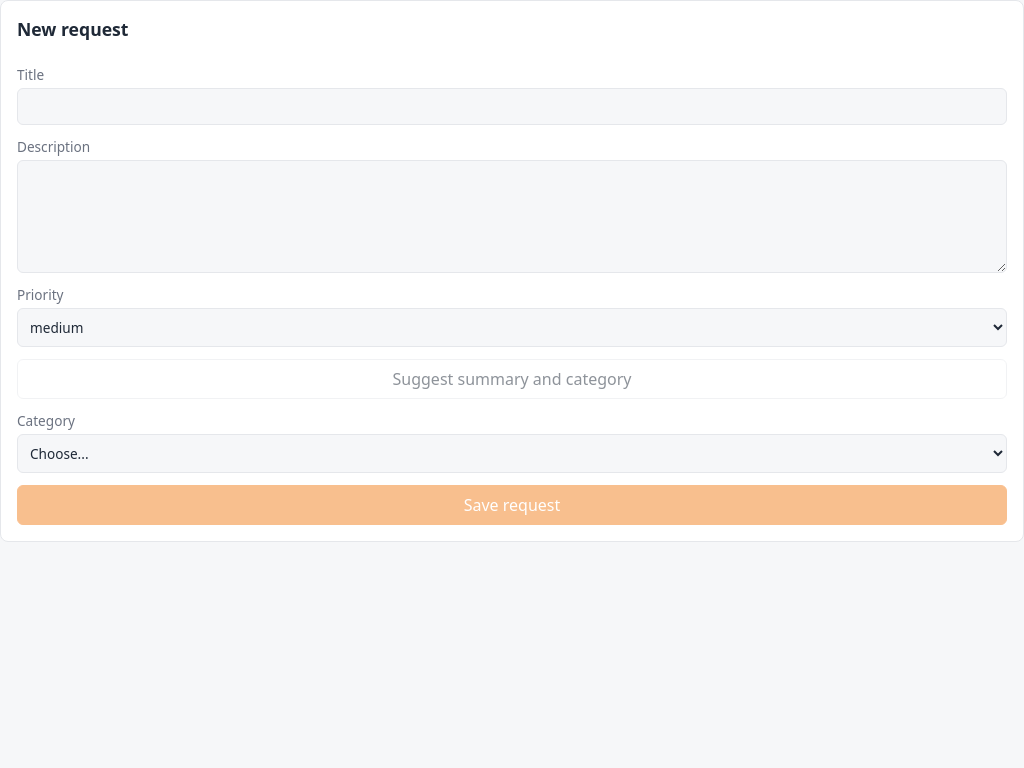
it: NewRequestForm › asks for a manual category when the AI is unavailable
This screenshot has width=1024, height=768.
Step 1. Type "VPN broken" into the field labelled "Title" → (512, 106), box [17, 88, 1007, 125]
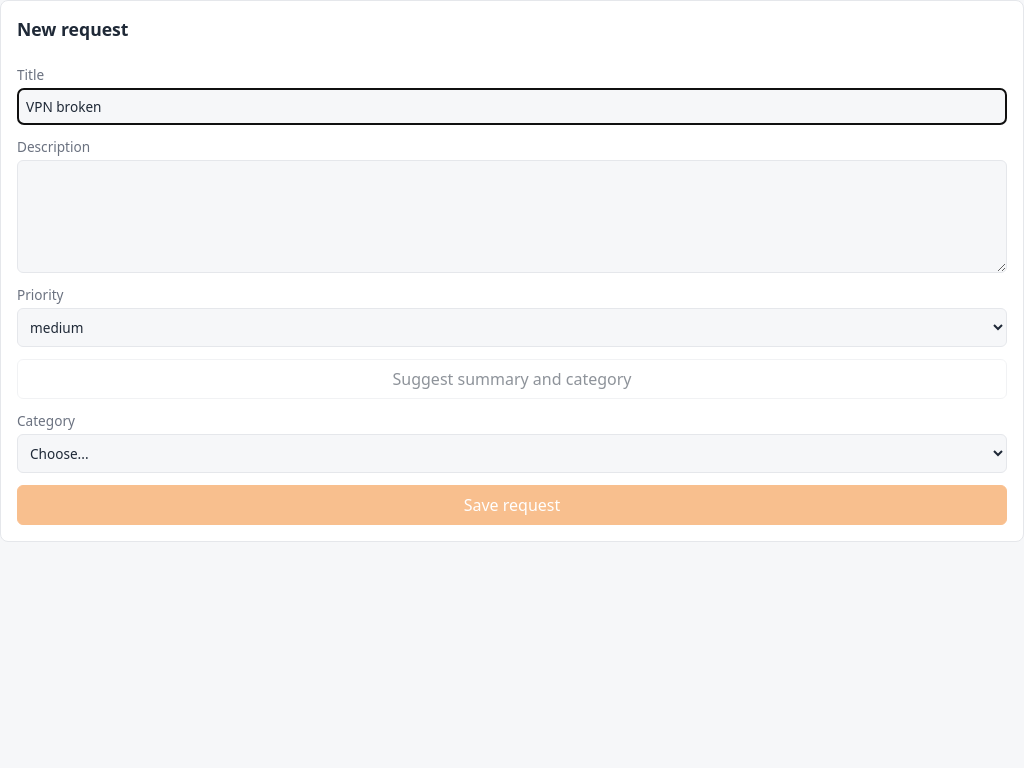
Step 2. Type "Certificate expired this morning." into the text box labelled "Description" → (512, 216), box [17, 160, 1007, 273]
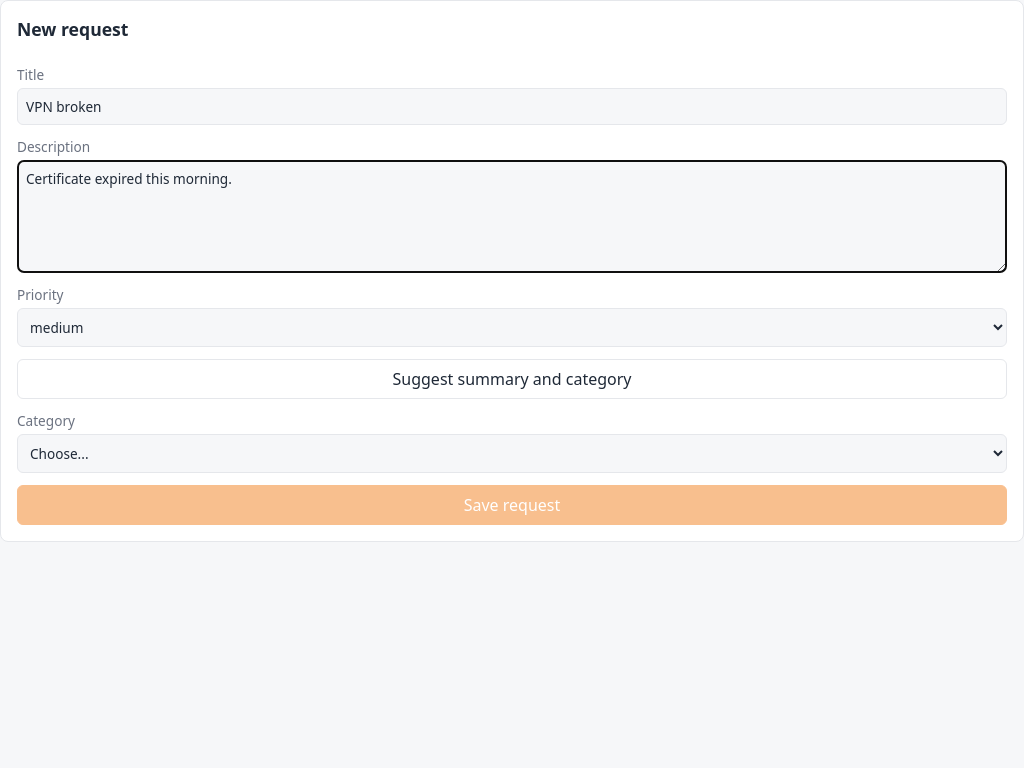
Step 3. Click the button "Suggest summary and category" → (512, 379), box [17, 359, 1007, 399]
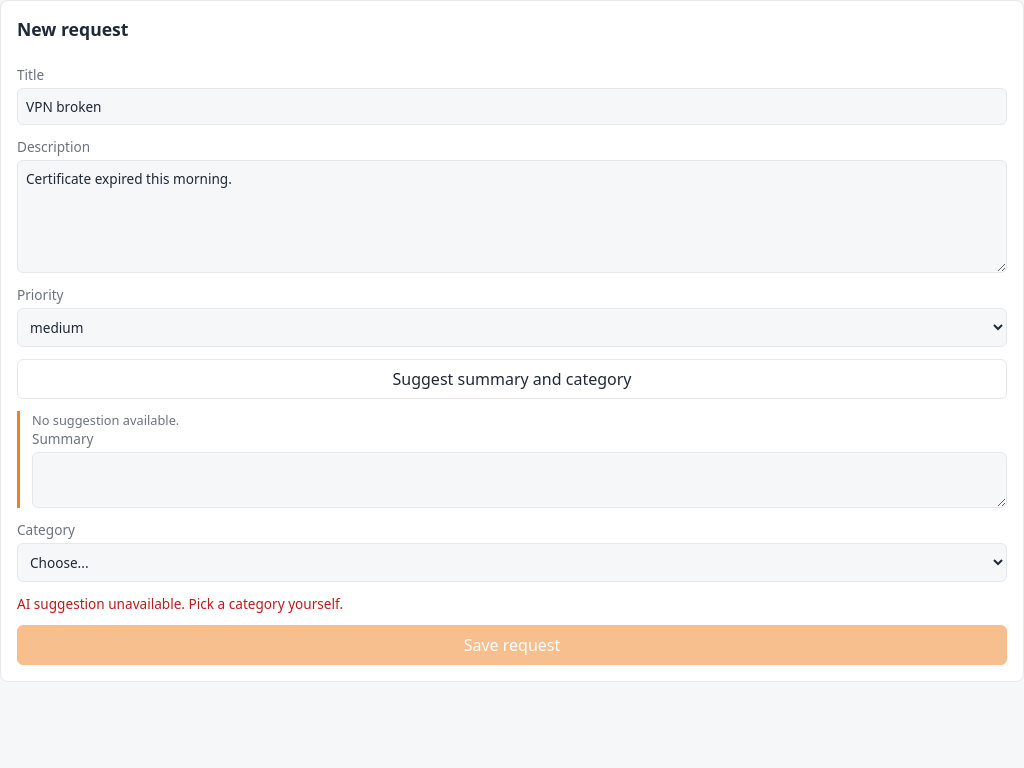
Expected: the dropdown labelled "Category" shows "Choose...", [17, 543, 1007, 582]
Result: the message shows "Pick a category" at [17, 594, 343, 613]
